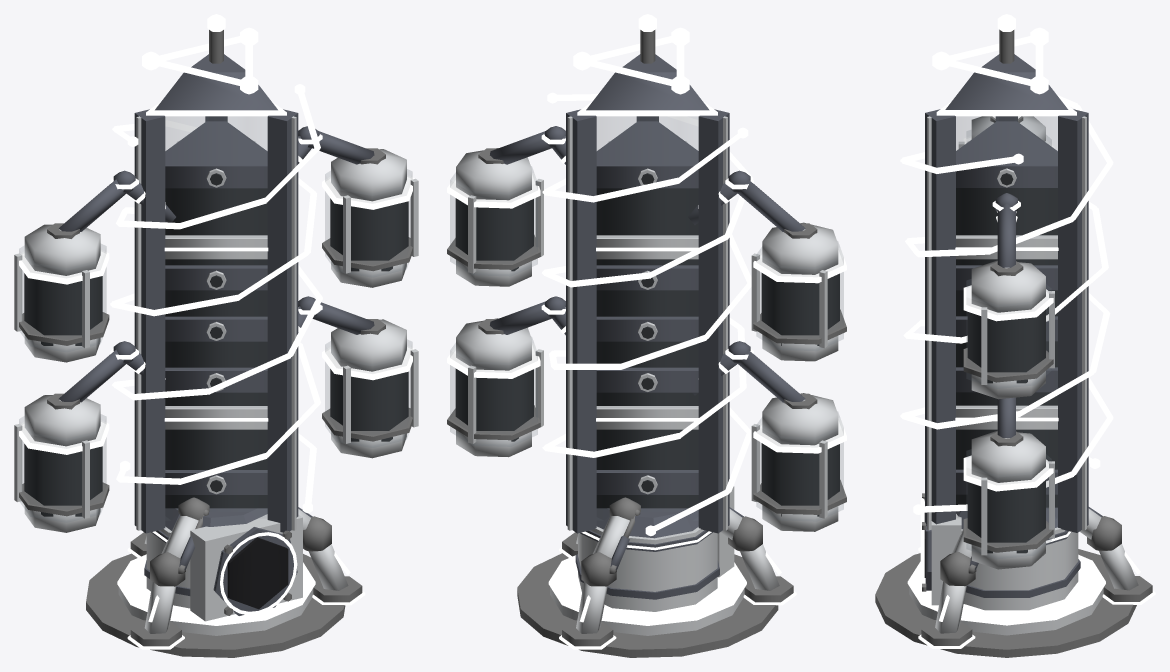
The model's file is VEX_Vat_T4.glb.
3 renders of one model, left to right at view 1: azimuth 30°, elevation 25°; view 2: azimuth 150°, elevation 25°; view 3: azimuth 270°, elevation 25°, orthographic.
Parts seen in each view (by area): view 1: VEX_Vat_T4; view 2: VEX_Vat_T4; view 3: VEX_Vat_T4.
Part boxes in pixels (bbox=[...]): VEX_Vat_T4: bbox=[14, 14, 418, 657]; VEX_Vat_T4: bbox=[447, 14, 846, 657]; VEX_Vat_T4: bbox=[875, 14, 1155, 657].
Size of the model in its own units: 5.95 by 8.64 by 3.73.
